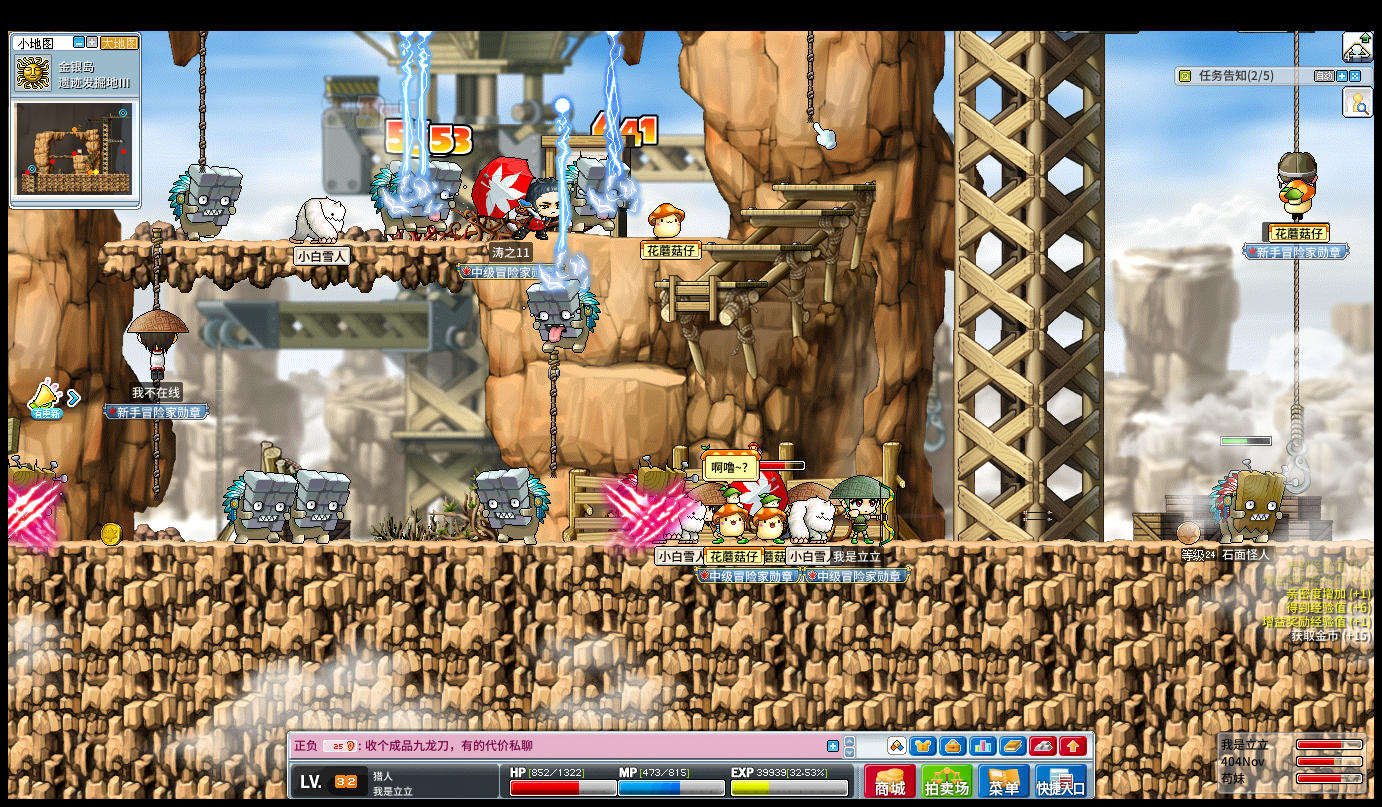floor: (8, 537, 1373, 550), (101, 239, 487, 250), (594, 364, 687, 385), (612, 234, 742, 243), (654, 281, 768, 288), (701, 244, 813, 251), (772, 184, 876, 190), (740, 209, 851, 214)
monster: (1216, 459, 1299, 543), (476, 467, 552, 545), (168, 164, 243, 241), (525, 279, 601, 353), (223, 470, 297, 544), (390, 159, 463, 231), (8, 455, 68, 537), (568, 157, 630, 232), (297, 469, 351, 544), (614, 454, 699, 491)
rope: (548, 350, 559, 479), (199, 31, 206, 174), (1292, 30, 1299, 152), (151, 419, 160, 503), (151, 228, 160, 309), (1293, 260, 1298, 402), (806, 31, 813, 123), (1290, 405, 1303, 438)
